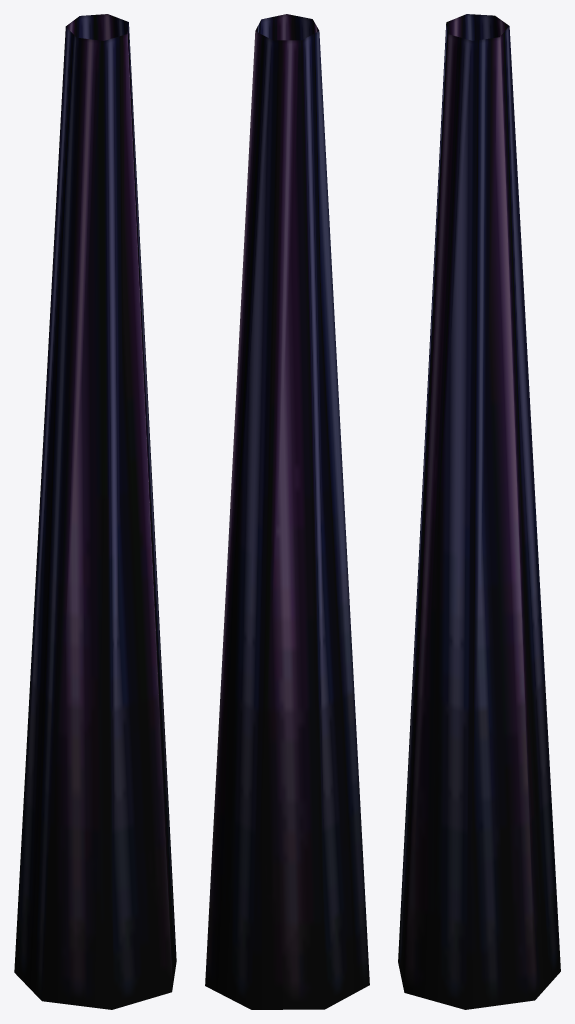
The model's file is INST_EKH_LIGHTSHAFT.fbx.
The picture shows the model from 3 angles, left to right: view 1: azimuth 30°, elevation 25°; view 2: azimuth 150°, elevation 25°; view 3: azimuth 270°, elevation 25°; orthographic projection.
Parts seen in each view (by area): view 1: INST_EKH_LIGHTSHAFT; view 2: INST_EKH_LIGHTSHAFT; view 3: INST_EKH_LIGHTSHAFT.
Boxes of the visible parts, <box> form: INST_EKH_LIGHTSHAFT: <box>14,14,176,1009</box>; INST_EKH_LIGHTSHAFT: <box>205,14,369,1009</box>; INST_EKH_LIGHTSHAFT: <box>398,14,560,1009</box>.
Size of the model in its own units: 34594 by 220725 by 34400.
1 material, 1 textured.
